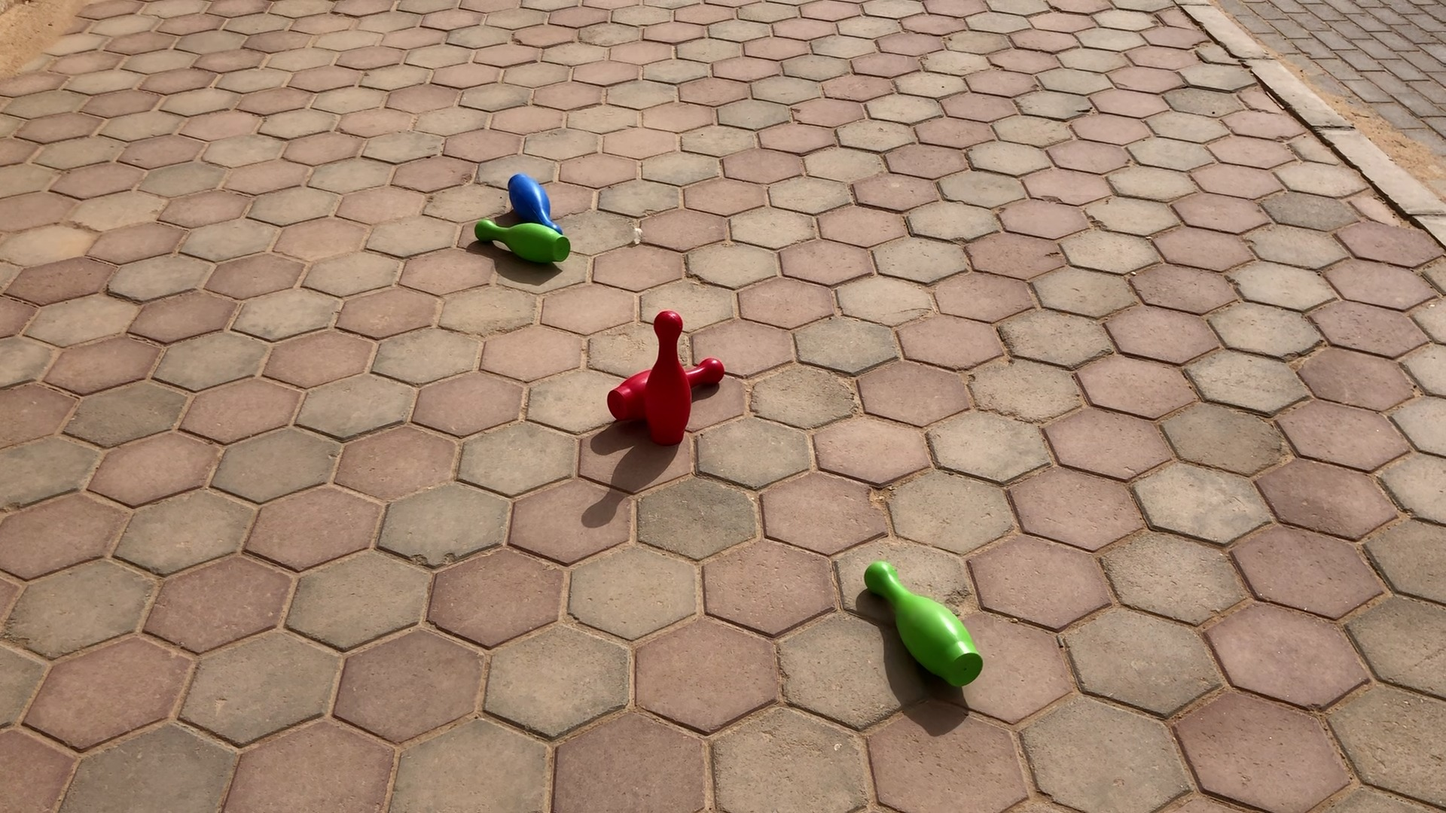bowling-pin: (867, 563, 984, 687), (643, 308, 694, 440), (478, 218, 570, 264), (507, 175, 558, 231)
